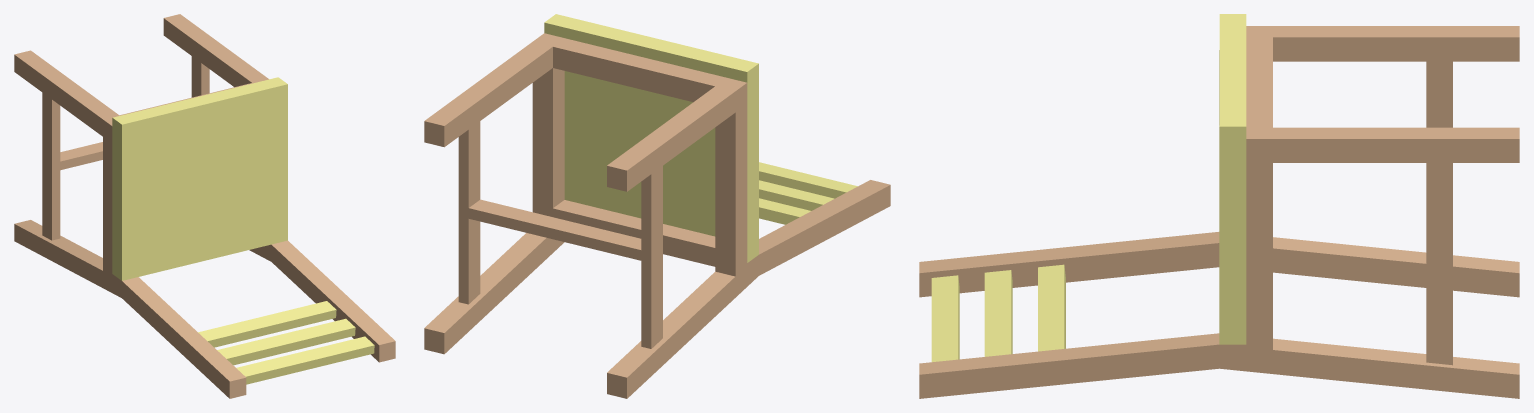
Rendered from chair.dae.
3 renders of one model, left to right at view 1: azimuth 30°, elevation 25°; view 2: azimuth 150°, elevation 25°; view 3: azimuth 270°, elevation 25°, orthographic. The views are drawn at different scales.
Parts seen in each view (by area): view 1: node (×2); view 2: node (×2); view 3: node (×2).
Part boxes in pixels (x1,y1,x2,y2): node (×2): (14,14,395,398); node (×2): (424,14,890,398); node (×2): (919,14,1519,398).
Bounding box in the file's own units: 0.4 × 0.45 × 0.9.
